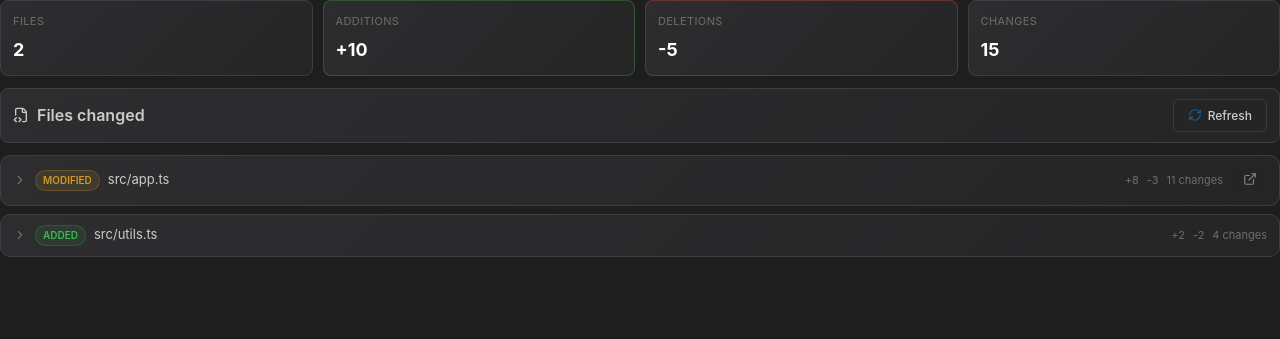
Scenario: PRFilesChangedPanel › toggles file expansion on click
Expected: the text "src/app.ts" is shown, [108,170,169,190]
Click file header to expand
Click the button "MODIFIED src/app.ts +8 -3 11 changes". click: x=67, y=180
box: [13,170,1223,190]
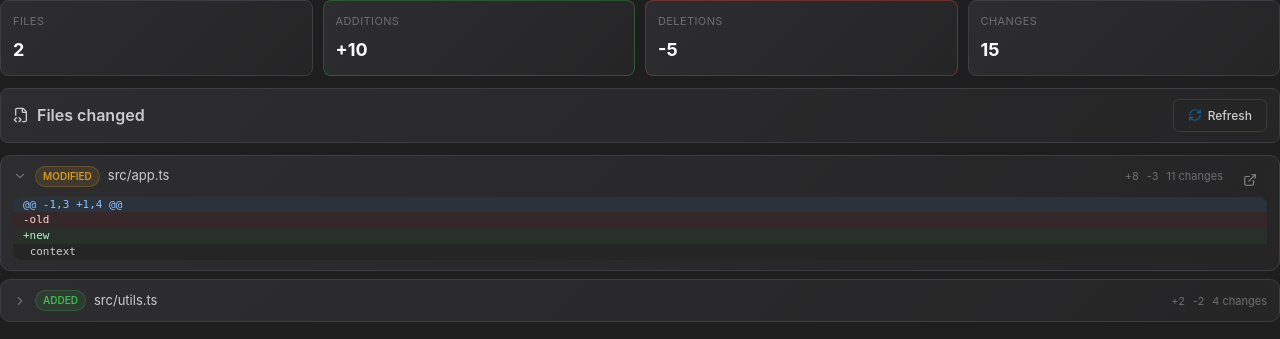
Expected: the text "-old" is shown, [13,212,1267,228]
Expected: the text "+new" is shown, [13,228,1267,244]
Click again to collapse
Click the button "MODIFIED src/app.ts +8 -3 11 changes". click: x=67, y=176
box: [13,166,1223,196]
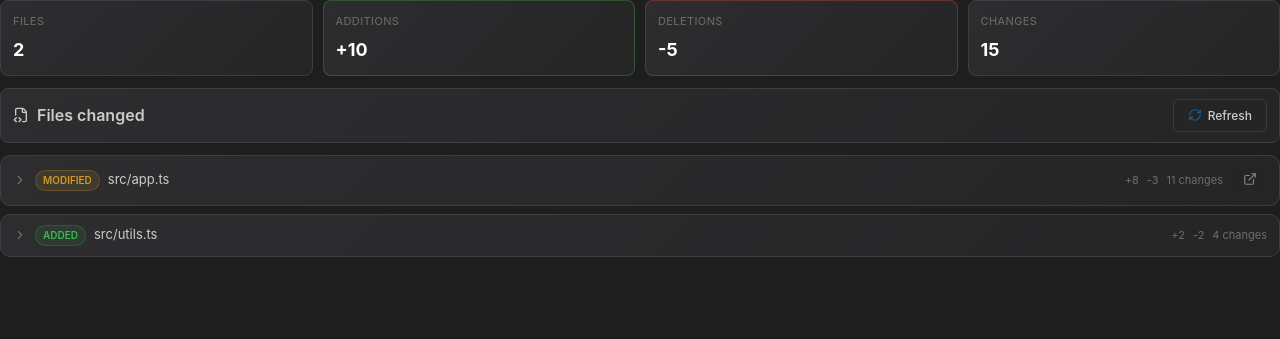
Expected: the text "-old" is gone
